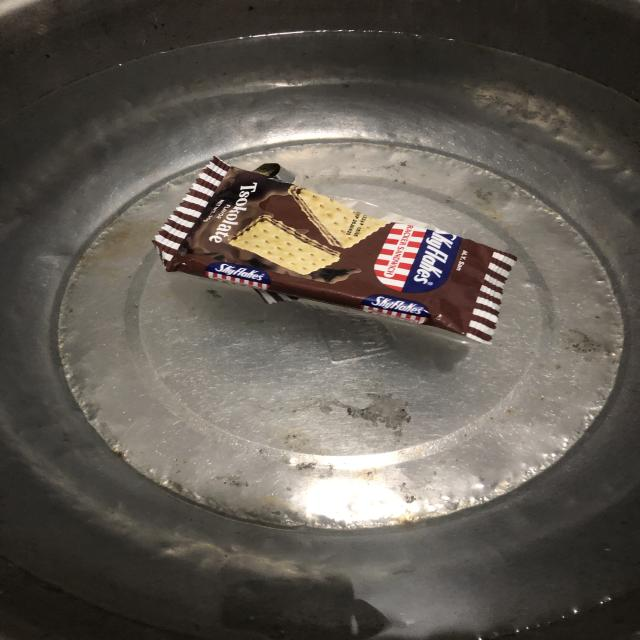Plastic Wrapper: (153, 157, 517, 343)
